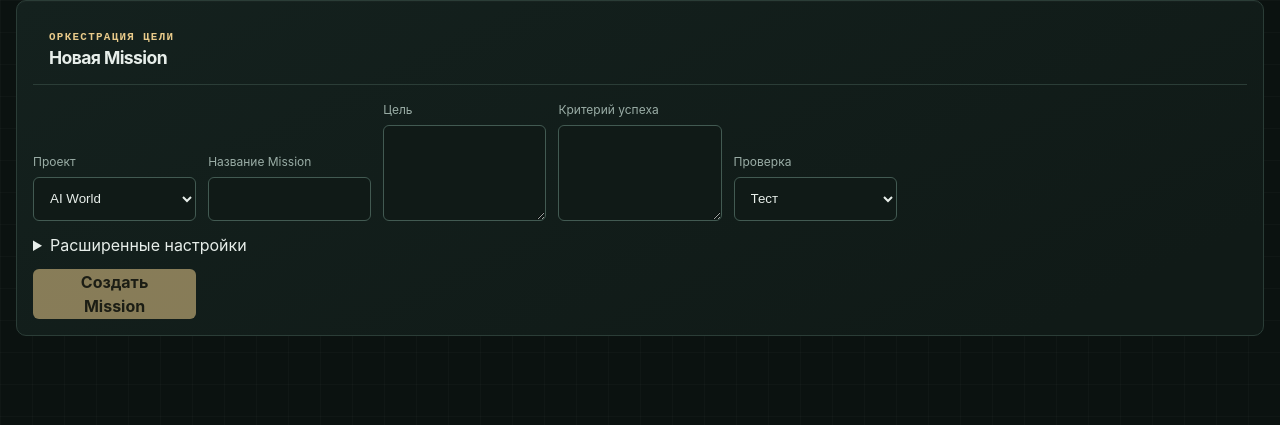
Test: MissionPanel › creates an active Mission with an explicit success criterion
This screenshot has width=1280, height=425.
Type "Finish AI World" into the field labelled "Название Mission" at {"x": 290, "y": 199}, box [208,177,371,221]
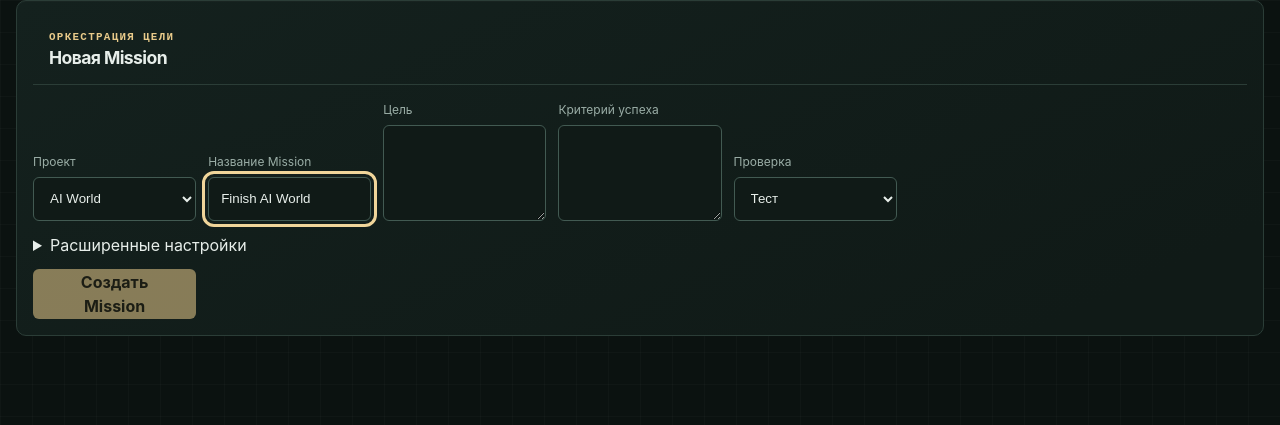
Type "Meet every production acceptance criterion." into the text box labelled "Цель" at {"x": 465, "y": 173}, box [383,125,546,221]
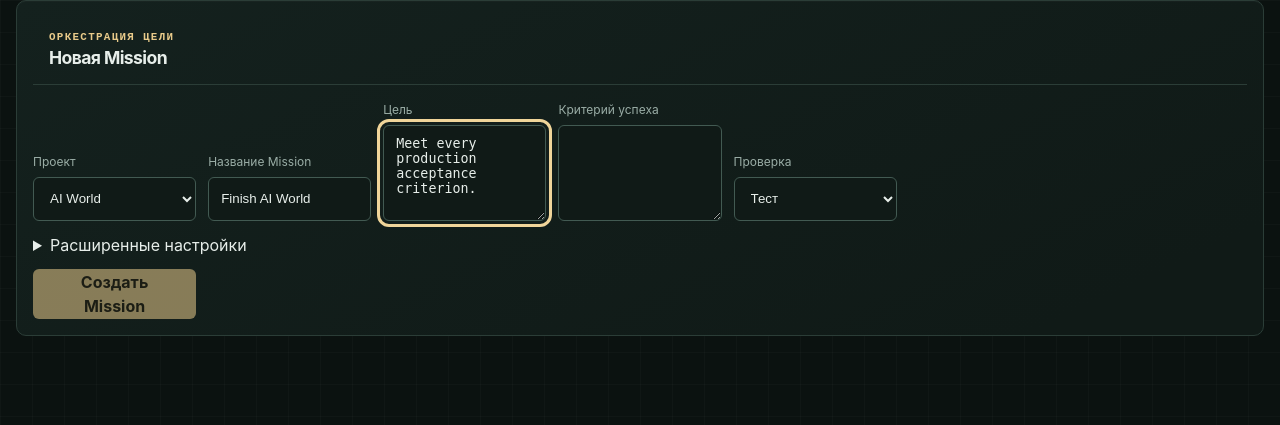
Type "All acceptance gates have evidence" into the text box labelled "Критерий успеха" at {"x": 640, "y": 173}, box [558,125,722,221]
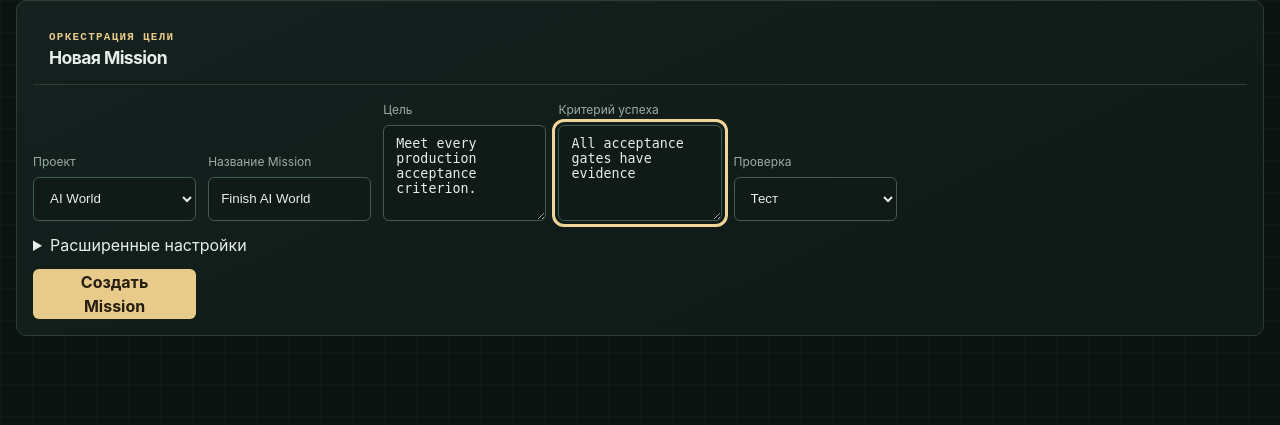
Click the button "Создать Mission" at {"x": 115, "y": 294}, box [33,269,196,319]
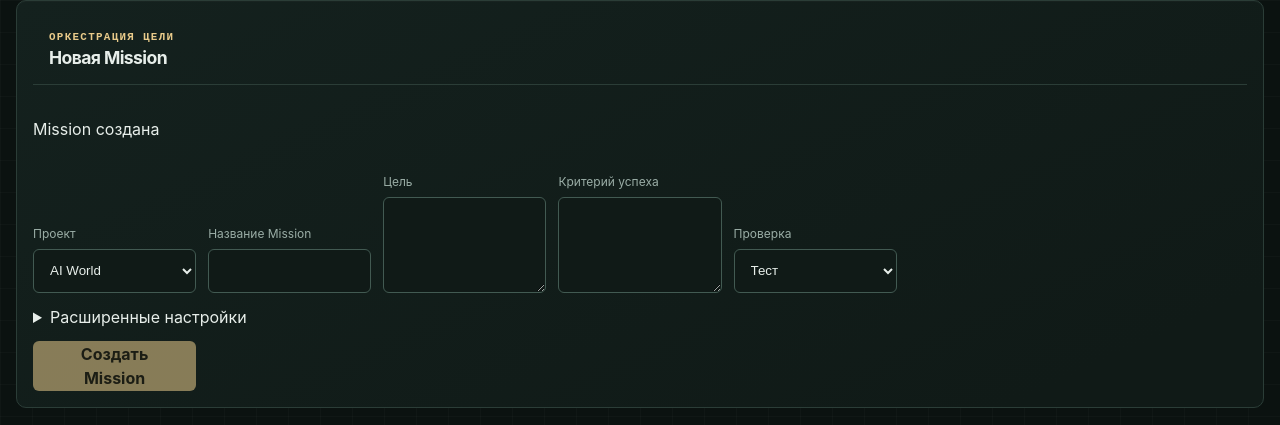
Check: the text "Mission создана" is shown, box [33,119,160,139]
